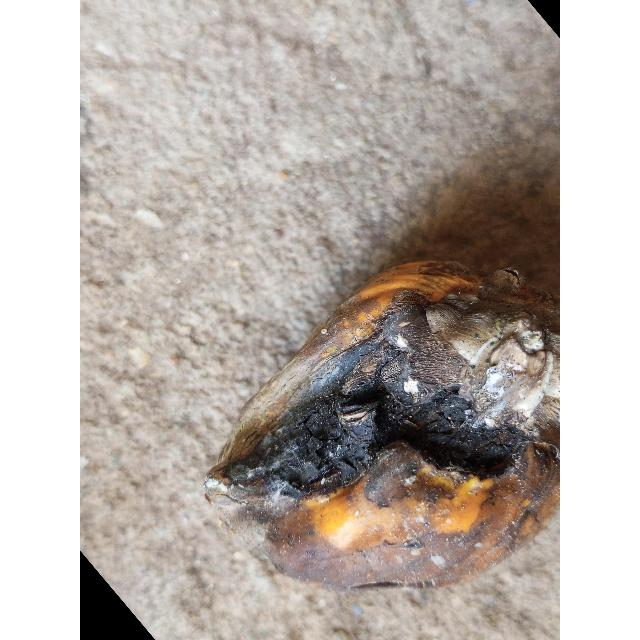damaged: (206, 264, 560, 597)
